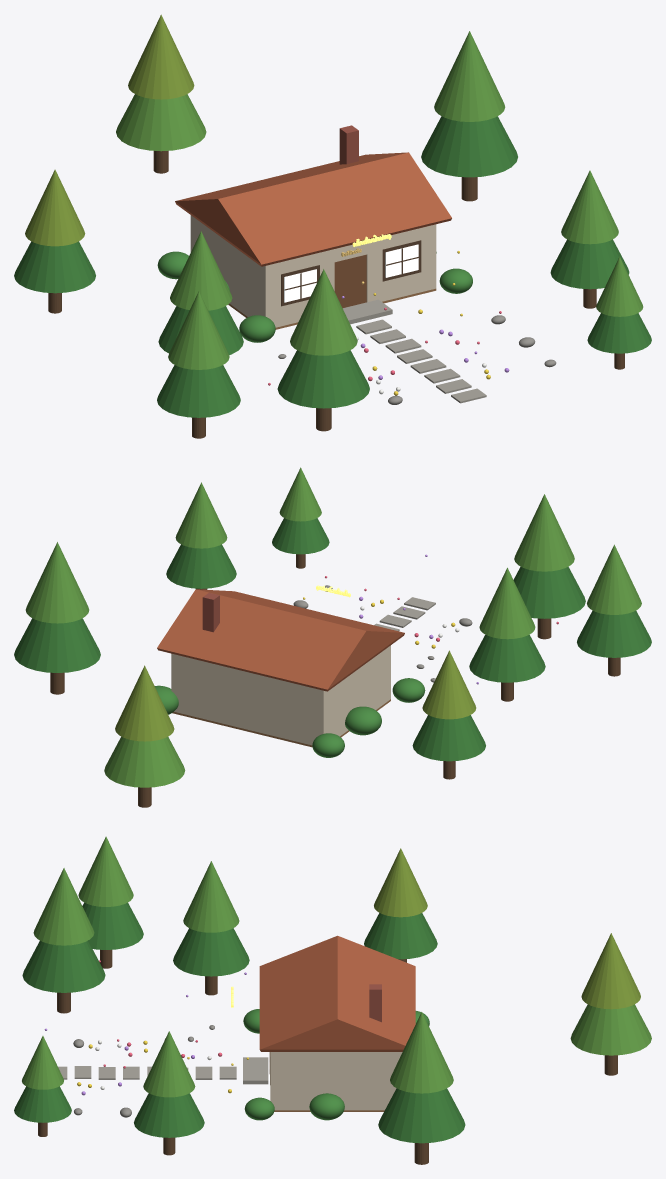
The model's file is portfolio.glb.
3 renders of one model, top to bottom at view 1: azimuth 30°, elevation 25°; view 2: azimuth 150°, elevation 25°; view 3: azimuth 270°, elevation 25°, orthographic. The views are drawn at different scales.
Parts seen in each view (by area): view 1: Roof, LeafA_3, LeafA_4, LeafA_6, LeafB_3, LeafA_7, LeafB_4, LeafA_2, WallLeft, LeafB_6, WallFrontR, LeafB_7 (+16 smaller); view 2: Roof, WallBack, LeafA_3, WallLeft, LeafA_6, LeafB_3, LeafA_0, LeafA_4, LeafA_7, LeafB_4, LeafA_2, LeafB_6 (+11 smaller); view 3: Roof, WallRight, LeafA_3, LeafA_4, LeafA_6, LeafB_3, LeafA_0, LeafB_4, LeafB_6, LeafA_2, LeafA_1, LeafB_0 (+9 smaller).
Part boxes in pixels (left/top/right/bottom): Roof: left=175, top=152, right=451, bottom=266; LeafA_3: left=421, top=116, right=517, bottom=177; LeafA_4: left=277, top=350, right=369, bottom=408; LeafA_6: left=116, top=94, right=206, bottom=151; LeafB_3: left=434, top=31, right=505, bottom=121; LeafA_7: left=157, top=365, right=240, bottom=417; LeafB_4: left=290, top=269, right=357, bottom=355; LeafA_2: left=14, top=241, right=95, bottom=293; WallLeft: left=190, top=217, right=269, bottom=318; LeafB_6: left=128, top=14, right=194, bottom=99; WallFrontR: left=366, top=225, right=432, bottom=302; LeafB_7: left=168, top=291, right=229, bottom=369; Roof: left=157, top=589, right=404, bottom=691; WallBack: left=171, top=654, right=325, bottom=745; LeafA_3: left=14, top=618, right=100, bottom=672; WallLeft: left=320, top=647, right=390, bottom=736; LeafA_6: left=104, top=736, right=185, bottom=787; LeafB_3: left=25, top=542, right=89, bottom=623; LeafA_0: left=469, top=634, right=545, bottom=682; LeafA_4: left=513, top=566, right=585, bottom=618; LeafA_7: left=577, top=610, right=651, bottom=657; LeafB_4: left=514, top=494, right=574, bottom=571; LeafA_2: left=412, top=715, right=485, bottom=761; LeafB_6: left=115, top=665, right=174, bottom=741; Roof: left=259, top=935, right=415, bottom=1051; WallRight: left=270, top=1052, right=402, bottom=1110; LeafA_3: left=378, top=1088, right=465, bottom=1143; LeafA_4: left=22, top=940, right=105, bottom=992; LeafA_6: left=570, top=1004, right=651, bottom=1055; LeafB_3: left=390, top=1012, right=453, bottom=1093; LeafA_0: left=173, top=928, right=249, bottom=976; LeafB_4: left=33, top=868, right=94, bottom=945; LeafB_6: left=581, top=933, right=640, bottom=1009; LeafA_2: left=364, top=913, right=437, bottom=959; LeafA_1: left=134, top=1093, right=204, bottom=1137; LeafB_0: left=183, top=861, right=239, bottom=932.
Size of what is drawn, in the model's own units: 25.87 by 8.03 by 30.31.
